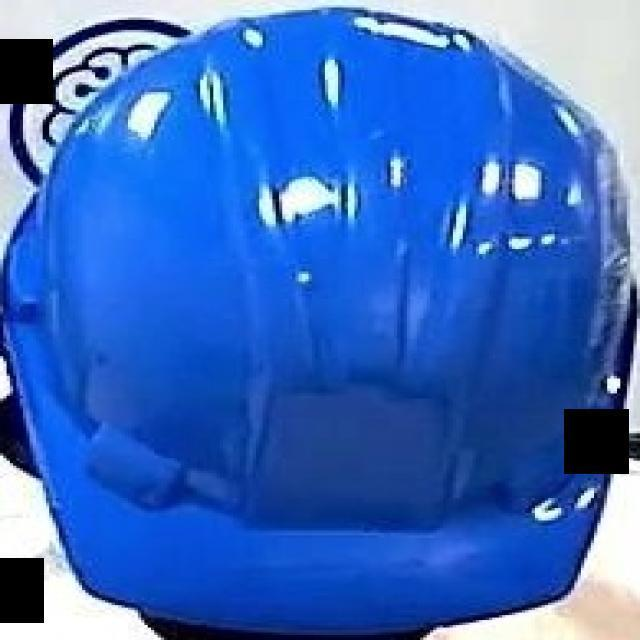blue helmet: (17, 12, 628, 623)
